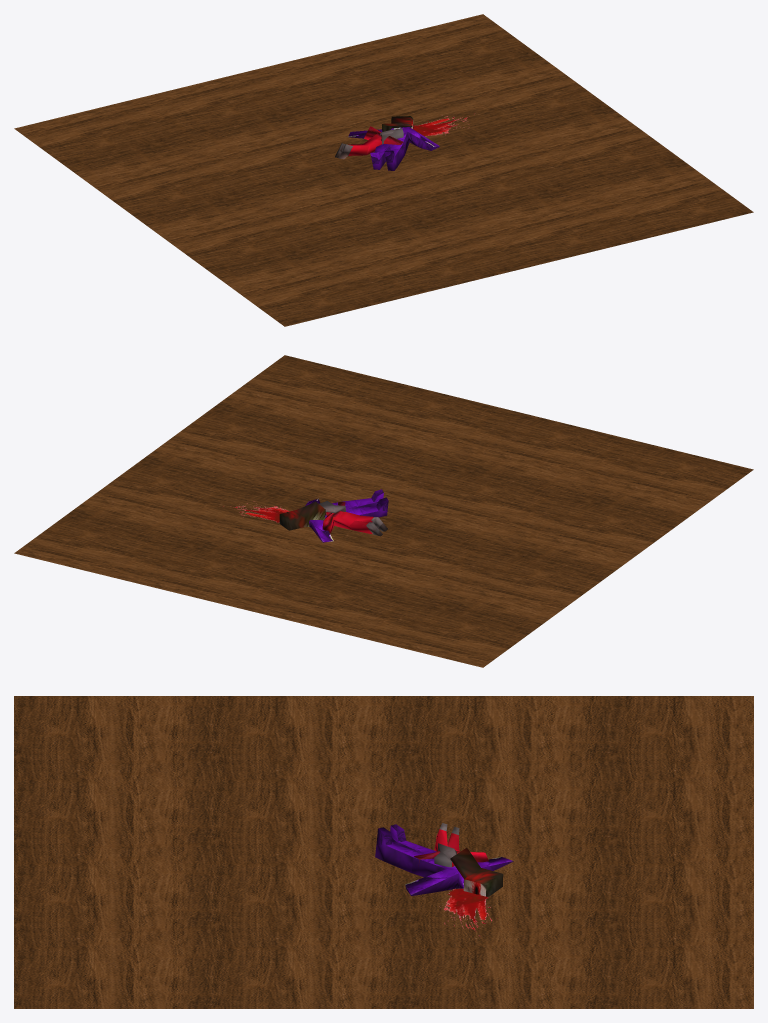
The model's file is mrtvi.glb.
3 views of the same model, one above another, from view 1: azimuth 30°, elevation 25°; view 2: azimuth 150°, elevation 25°; view 3: azimuth 270°, elevation 25° (orthographic). The views are drawn at different scales.
Visible parts, largest first — view 1: Plane, Cube, Cube.001; view 2: Plane, Cube, Cube.001; view 3: Plane, Cube, Cube.001.
Boxes of the visible parts, x1=… form: Plane: x1=14, y1=14, x2=753, y2=326; Cube: x1=348, y1=116, x2=439, y2=170; Cube.001: x1=335, y1=126, x2=404, y2=159; Plane: x1=14, y1=355, x2=753, y2=667; Cube: x1=279, y1=489, x2=388, y2=542; Cube.001: x1=319, y1=501, x2=387, y2=536; Plane: x1=14, y1=696, x2=753, y2=1008; Cube: x1=375, y1=824, x2=513, y2=896; Cube.001: x1=414, y1=823, x2=488, y2=867.
Bounding box in the file's own units: 56.87 × 4.44 × 56.87.
Materials: 4 (4 with a texture image).
